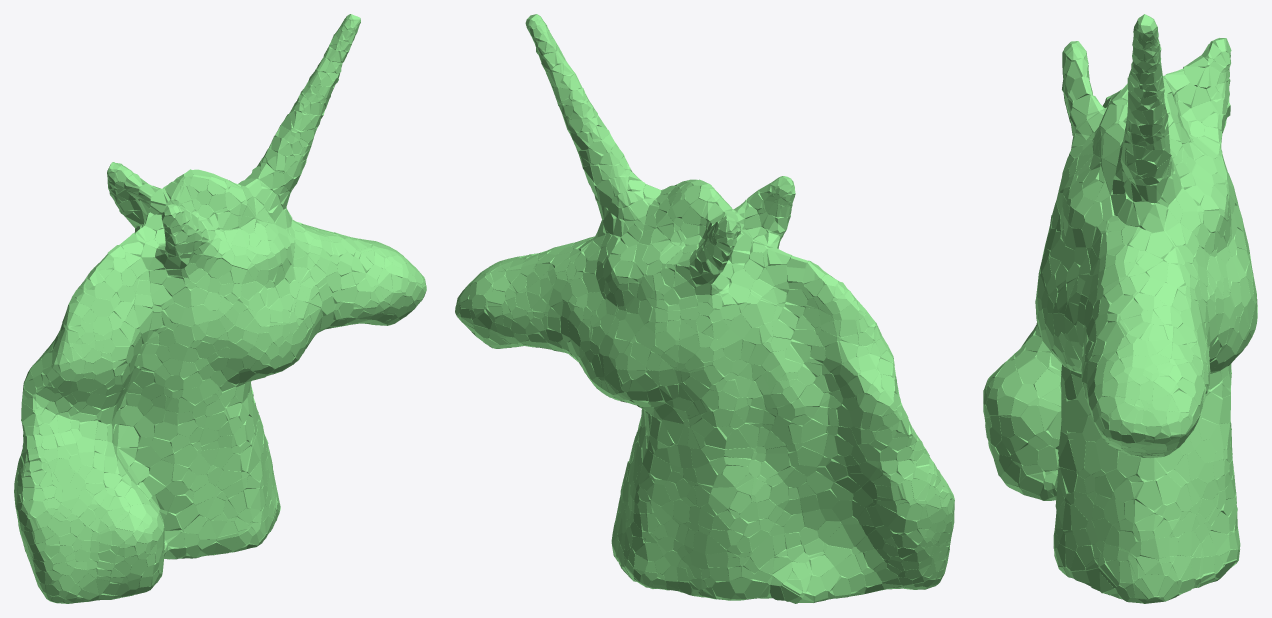
The model's file is 55932_0.1pct_vorolight.glb.
The picture shows the model from 3 angles, left to right: view 1: azimuth 30°, elevation 25°; view 2: azimuth 150°, elevation 25°; view 3: azimuth 270°, elevation 25°; orthographic projection. The views are drawn at different scales.
Parts seen in each view (by area): view 1: 55932_shape50_normal10_noise_0.1pct_voronoi_mesh_surface.obj; view 2: 55932_shape50_normal10_noise_0.1pct_voronoi_mesh_surface.obj; view 3: 55932_shape50_normal10_noise_0.1pct_voronoi_mesh_surface.obj.
Boxes of the visible parts, bbox=[...] form: 55932_shape50_normal10_noise_0.1pct_voronoi_mesh_surface.obj: bbox=[14, 14, 426, 603]; 55932_shape50_normal10_noise_0.1pct_voronoi_mesh_surface.obj: bbox=[455, 14, 954, 603]; 55932_shape50_normal10_noise_0.1pct_voronoi_mesh_surface.obj: bbox=[983, 14, 1257, 603].
Size of the model in its own units: 1.29 by 1.4 by 0.5399.
